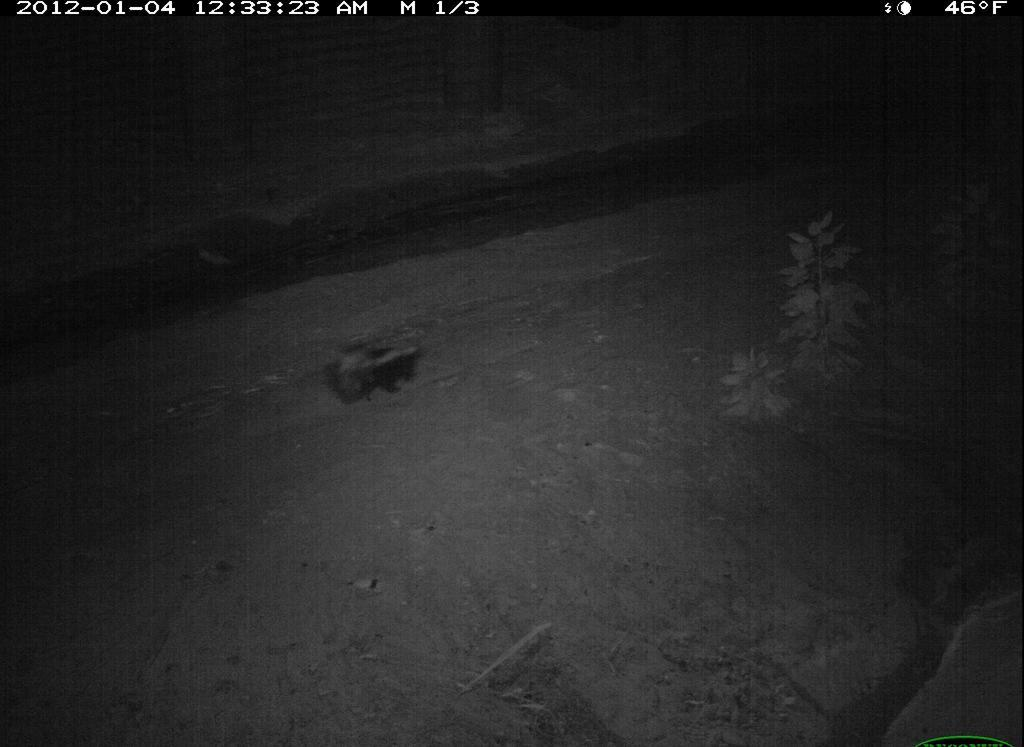skunk: (324, 317, 445, 410)
